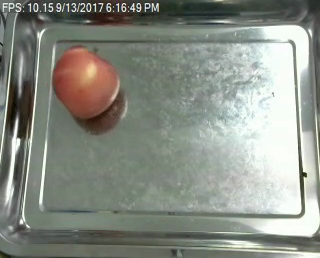Apple: (53, 45, 120, 118)
